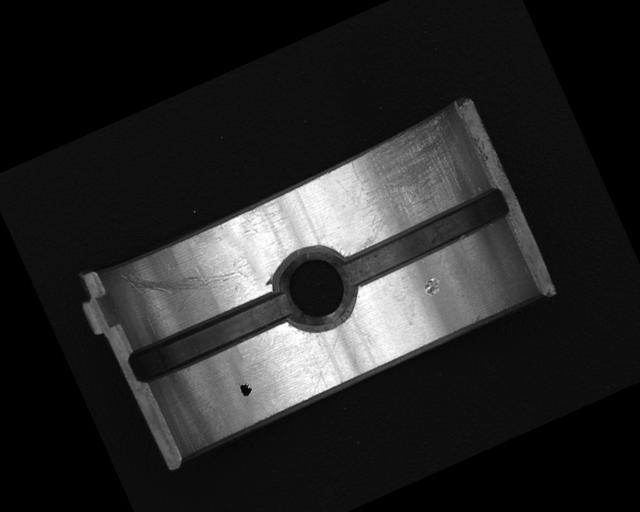blot: (236, 379, 254, 399)
bruise: (419, 273, 445, 299)
gap: (334, 180, 517, 291), (124, 285, 295, 388)
hole: (261, 235, 368, 342)
nick: (119, 228, 248, 330)
scratch: (324, 108, 485, 249)
